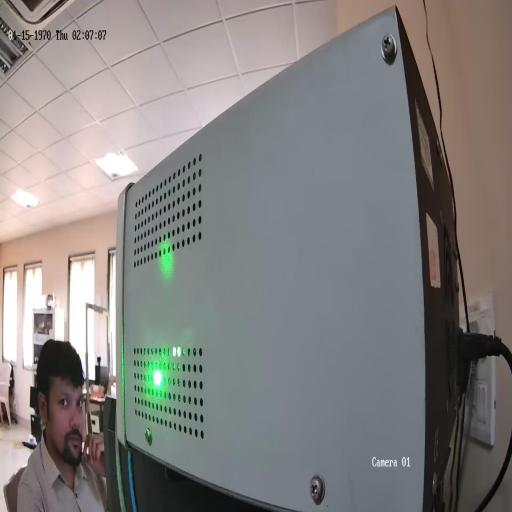laser: (151, 365, 164, 391)
